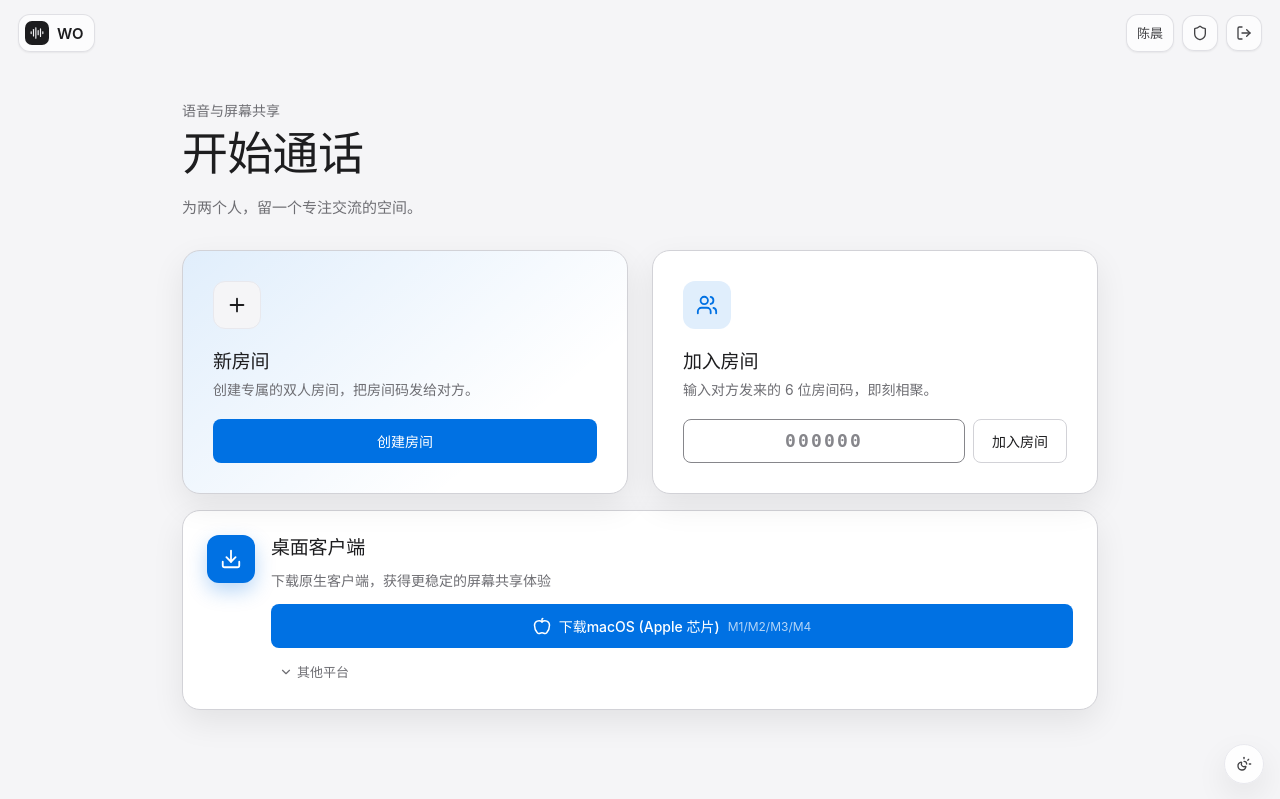
Scenario: desktop account and room workflow › accepts only a six-digit room code and joins a connected room
This screenshot has width=1280, height=799.
Expected: the 1st heading named "开始通话" is shown, [182,125,363,181]
Type "12a34567" into the field named "房间码" at (824, 441), box [683,419,965,463]
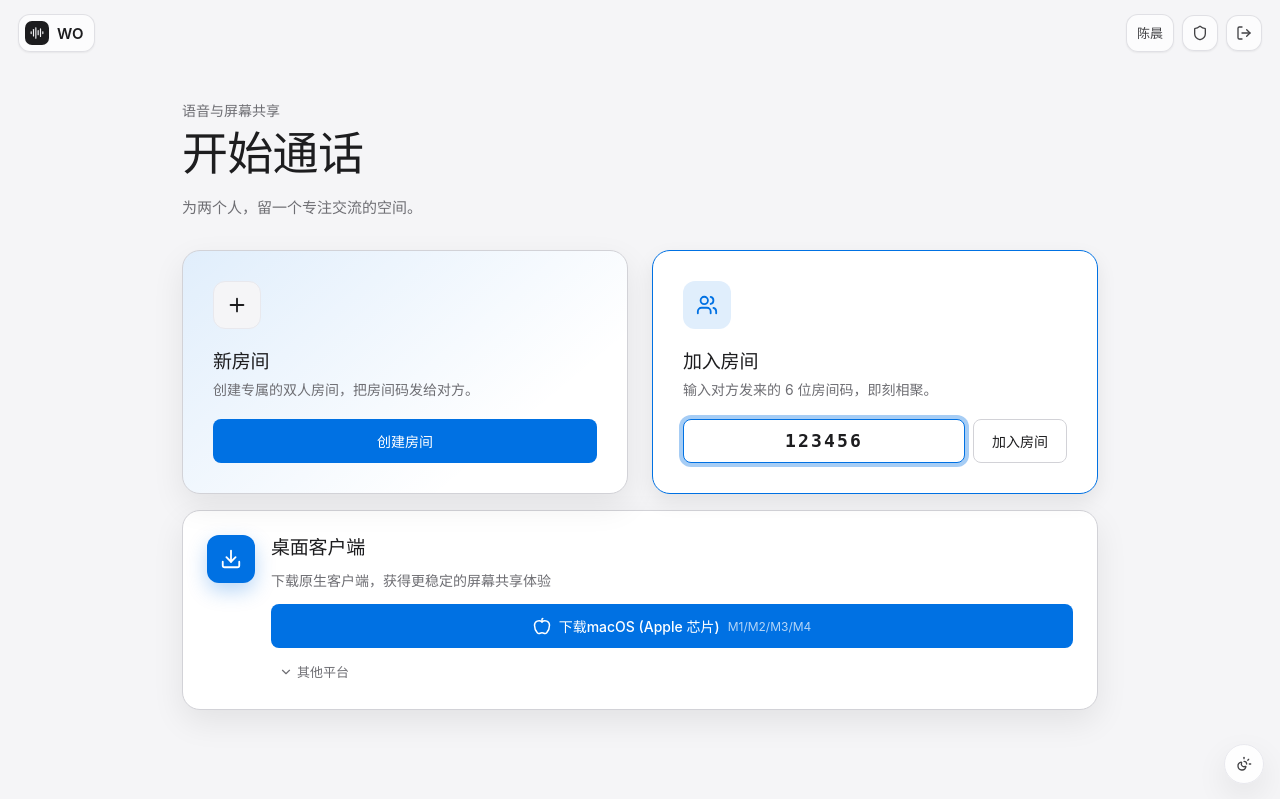
Expected: the field named "房间码" holds "123456", [683,419,965,463]
Click the 2nd button named "加入房间" at (1020, 441), box [973,419,1067,463]
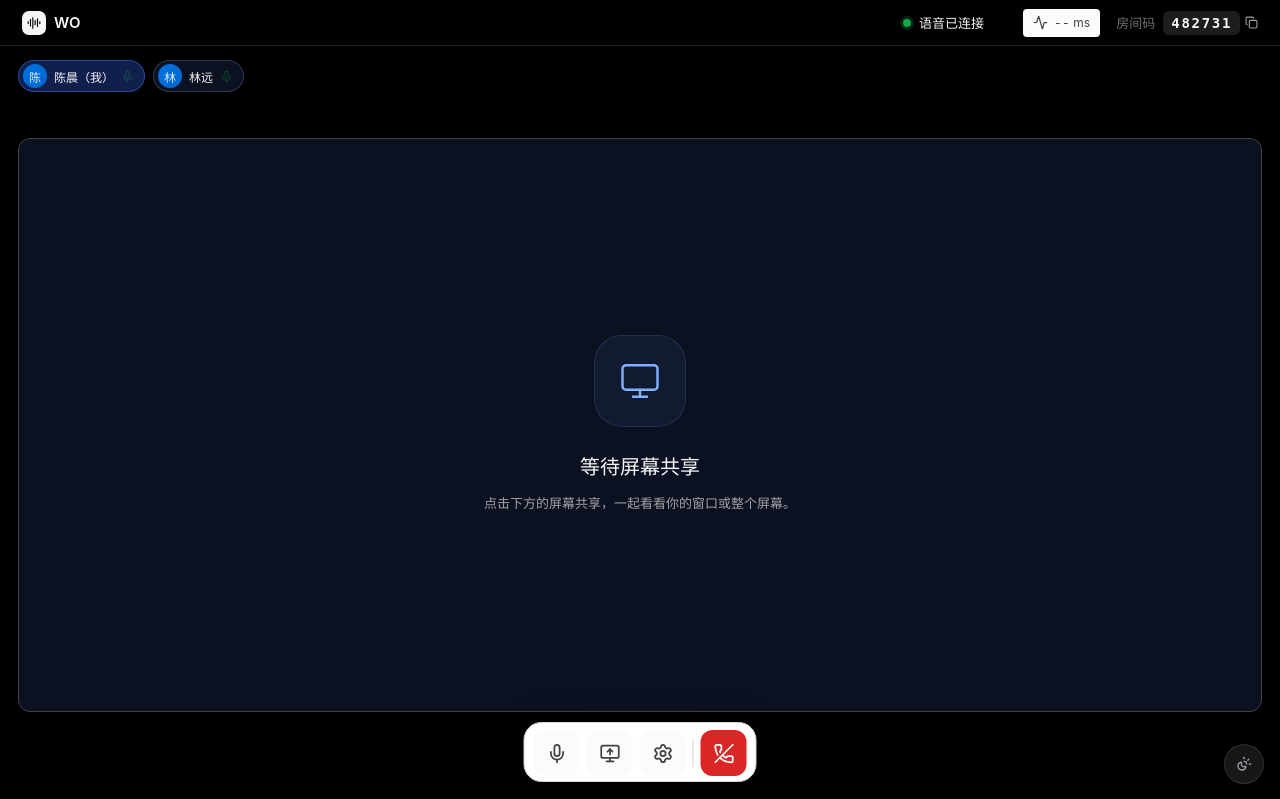
Expected: the 2nd text "语音已连接" is shown, [919,15,984,31]
Expected: the 8th text "林远" is shown, [189,70,213,84]
